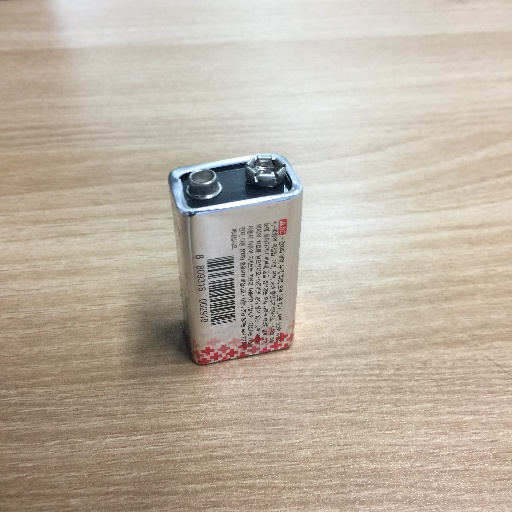Battery_3: (154, 138, 333, 380)
